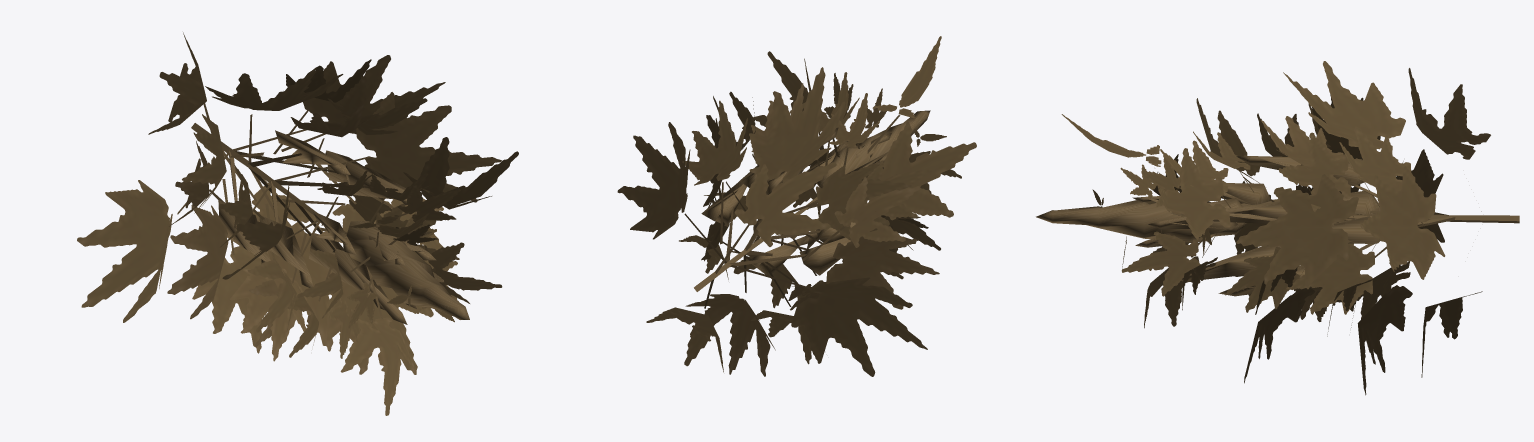
File: p_tree_ripe_c3_cards.obj
3 views of the same model, side by side, from view 1: azimuth 30°, elevation 25°; view 2: azimuth 150°, elevation 25°; view 3: azimuth 270°, elevation 25° (orthographic). The views are drawn at different scales.
Bounding box in the file's own units: 1.74 × 1.53 × 1.81.
1 material, 1 textured.
